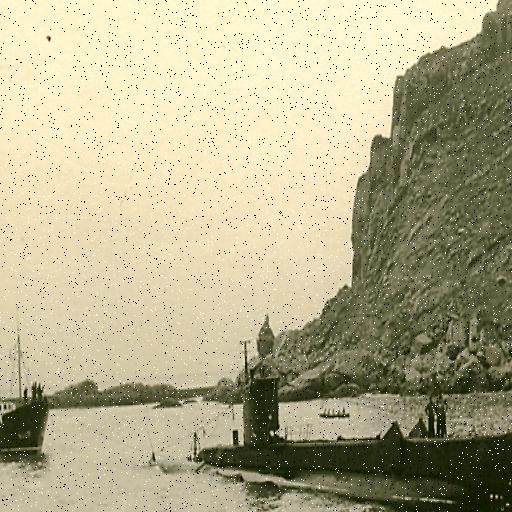submarine: (191, 341, 512, 512)
